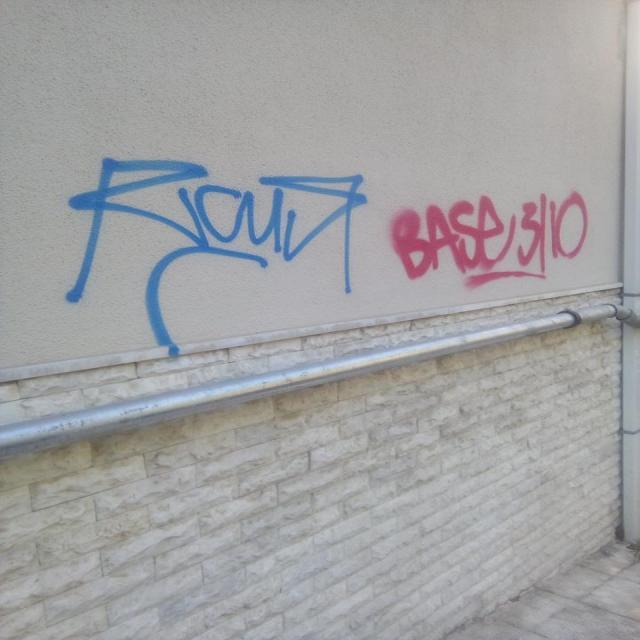nonspitting: (70, 150, 368, 356), (384, 192, 592, 292)
